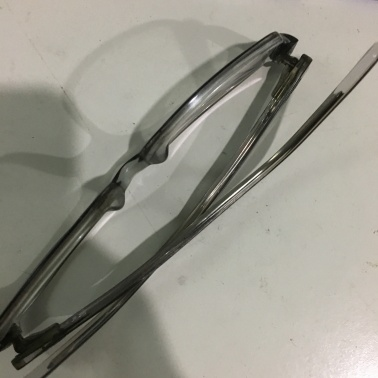glasses: (45, 40, 292, 346)
